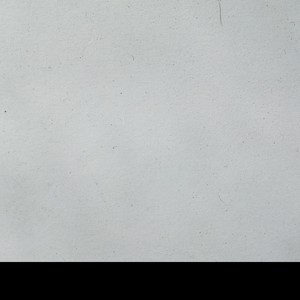base: (2, 1, 298, 262)
